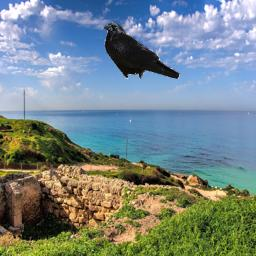Crow: (102, 22, 180, 79)
